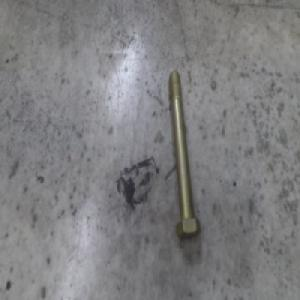Bolt: (170, 75, 204, 243)
